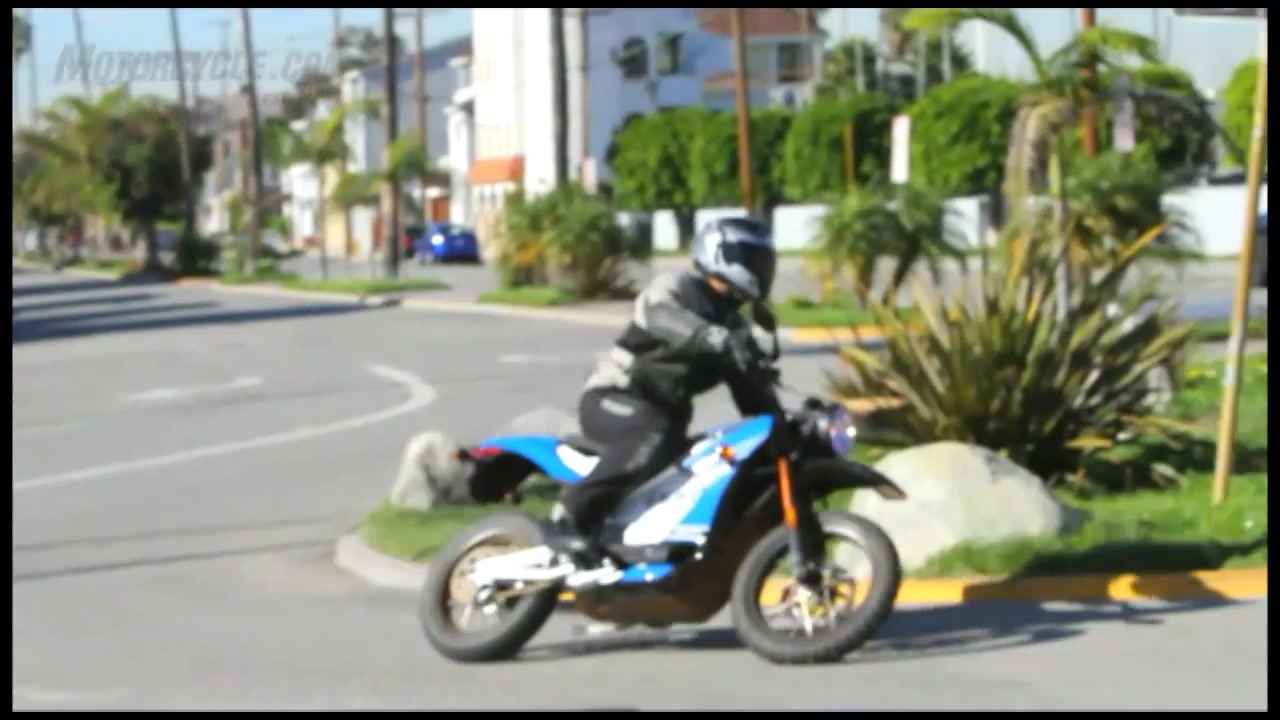motorbike: (416, 352, 910, 667)
